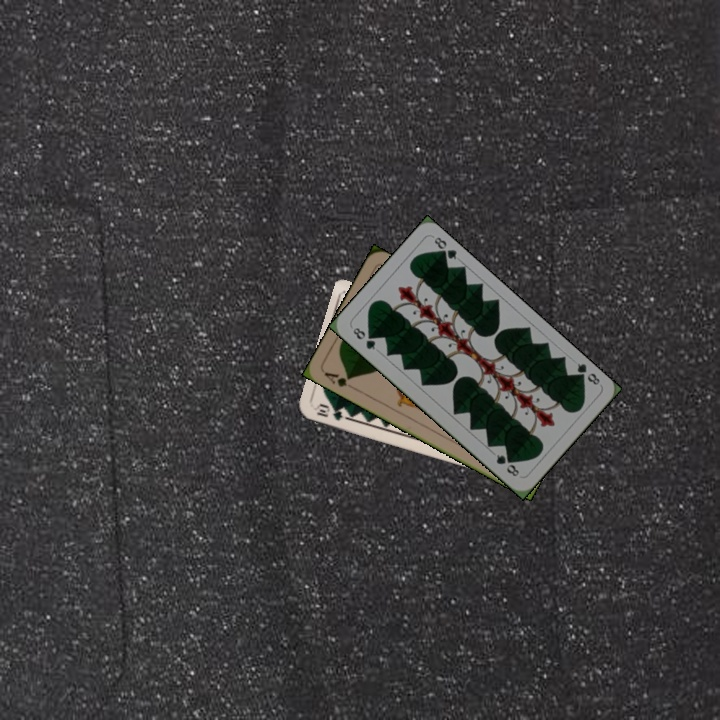G10: (311, 400, 345, 423)
G8: (571, 359, 603, 388), (349, 323, 378, 353)
GA: (320, 368, 357, 393)
